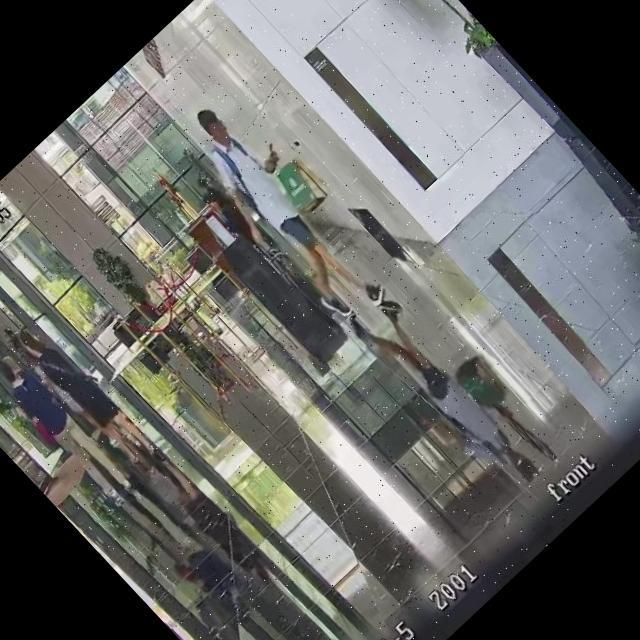person: (165, 90, 403, 336), (11, 313, 174, 484), (0, 346, 147, 515), (200, 182, 270, 254)
